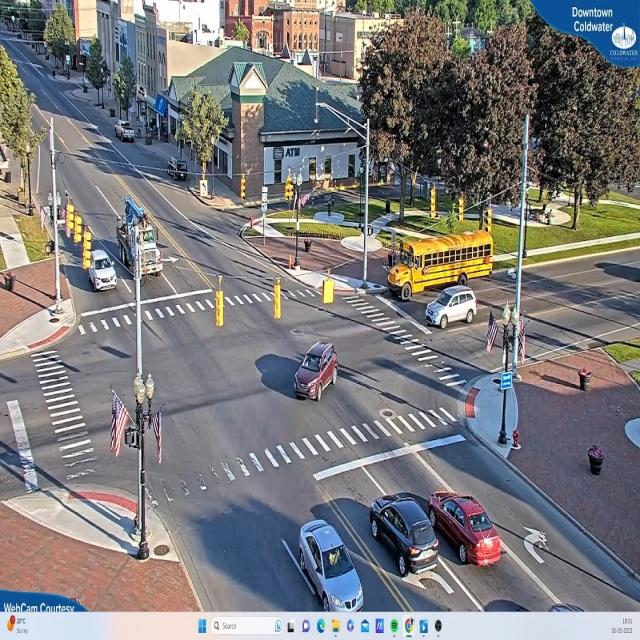bus: (383, 232, 495, 302)
car: (368, 492, 442, 577), (427, 491, 506, 569), (295, 522, 364, 610), (288, 342, 339, 402), (426, 288, 477, 329), (89, 246, 119, 294), (117, 121, 137, 145)
truck: (115, 192, 163, 289)
